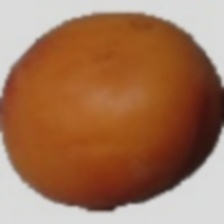apricot: (24, 14, 173, 211)
